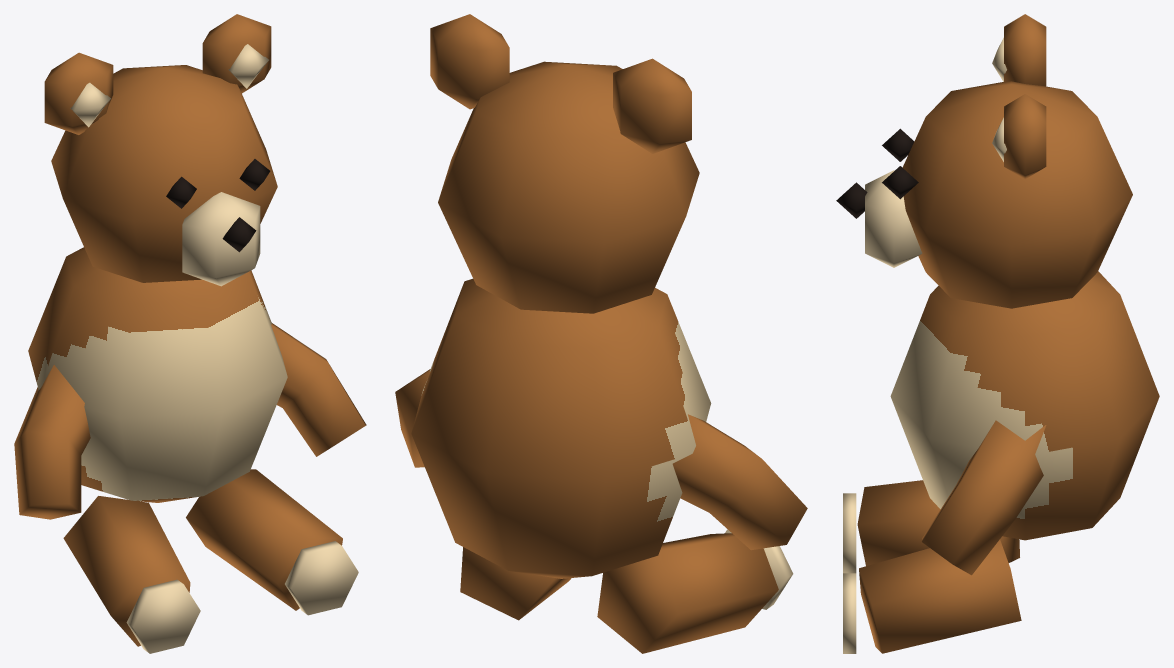
File: moreA-teddyBear.glb
The picture shows the model from 3 angles, left to right: view 1: azimuth 30°, elevation 25°; view 2: azimuth 150°, elevation 25°; view 3: azimuth 270°, elevation 25°; orthographic projection. The views are drawn at different scales.
Parts seen in each view (by area): view 1: moreA.teddyBear; view 2: moreA.teddyBear; view 3: moreA.teddyBear.
Part boxes in pixels (x1,y1,x2,y2): moreA.teddyBear: (14, 14, 366, 653); moreA.teddyBear: (395, 14, 807, 653); moreA.teddyBear: (836, 14, 1159, 653).
Bounding box in the file's own units: 1.15 × 1.73 × 0.906.
4 materials, 3 textured.
